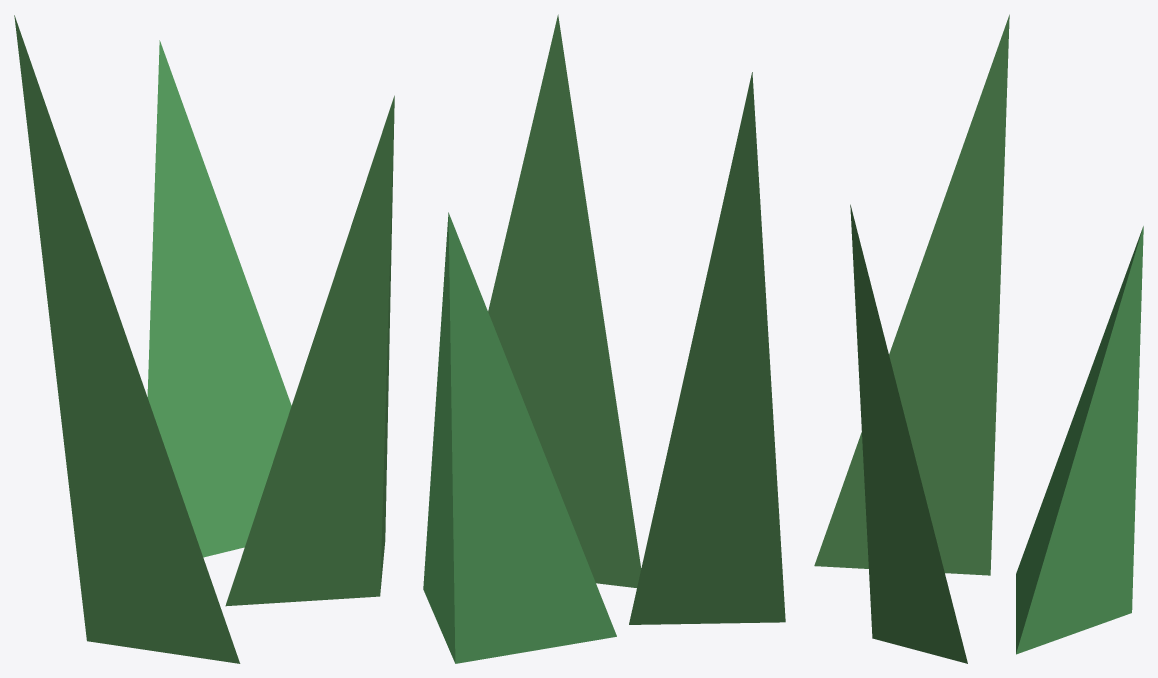
The model's file is lpherbe.glb.
The picture shows the model from 3 angles, left to right: view 1: azimuth 30°, elevation 25°; view 2: azimuth 150°, elevation 25°; view 3: azimuth 270°, elevation 25°; orthographic projection. The views are drawn at different scales.
Visible parts, largest first — view 1: Cone.002, Cone, Cone.001; view 2: Cone, Cone.002, Cone.001; view 3: Cone.002, Cone, Cone.001.
Boxes of the visible parts, x1,y1,x2,y2 form: Cone.002: (14,15,240,663); Cone: (147,40,291,557); Cone.001: (225,95,394,606); Cone: (423,212,616,663); Cone.002: (629,72,785,624); Cone.001: (488,14,641,587); Cone.002: (814,14,1009,575); Cone: (1016,226,1143,654); Cone.001: (850,204,967,663).
Bounding box in the file's own units: 2.01 × 3.29 × 1.94.
